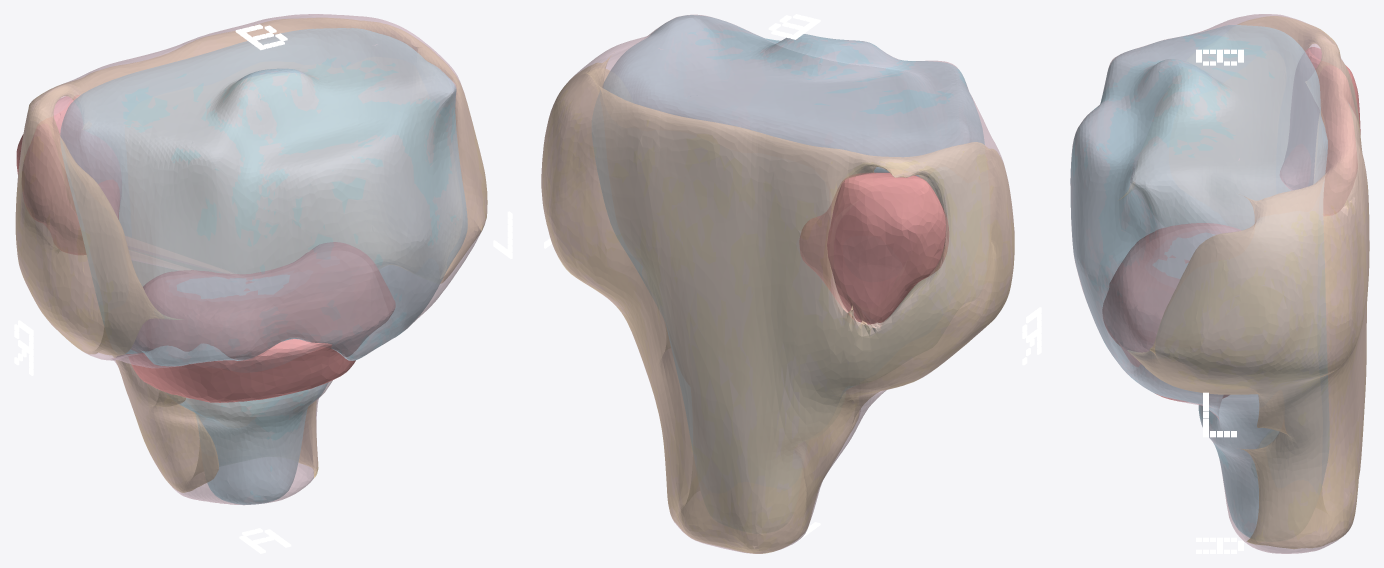
The picture shows the model from 3 angles, left to right: view 1: azimuth 30°, elevation 25°; view 2: azimuth 150°, elevation 25°; view 3: azimuth 270°, elevation 25°; orthographic projection. The views are drawn at different scales.
Visible parts, largest first — view 1: prostate_gland, transition_zone, peripheral_zone, lesion_01, pv_ar_marker_B; view 2: prostate_gland, peripheral_zone, transition_zone, lesion_01, pv_ar_marker_B; view 3: prostate_gland, transition_zone, peripheral_zone, lesion_01, pv_ar_marker_B, pv_ar_marker_A, pv_ar_marker_L.
Part boxes in pixels (x1=…): prostate_gland: x1=15, y1=14, x2=487, y2=505; transition_zone: x1=60, y1=28, x2=467, y2=504; peripheral_zone: x1=15, y1=18, x2=487, y2=492; lesion_01: x1=16, y1=95, x2=395, y2=402; pv_ar_marker_B: x1=235, y1=24, x2=287, y2=50; prostate_gland: x1=541, y1=14, x2=1014, y2=553; peripheral_zone: x1=541, y1=56, x2=1014, y2=553; transition_zone: x1=592, y1=15, x2=984, y2=452; lesion_01: x1=799, y1=172, x2=948, y2=324; pv_ar_marker_B: x1=768, y1=14, x2=820, y2=39; prostate_gland: x1=1070, y1=14, x2=1369, y2=553; transition_zone: x1=1070, y1=25, x2=1329, y2=537; peripheral_zone: x1=1121, y1=16, x2=1369, y2=548; lesion_01: x1=1102, y1=47, x2=1360, y2=401; pv_ar_marker_B: x1=1196, y1=49, x2=1243, y2=65; pv_ar_marker_A: x1=1196, y1=537, x2=1243, y2=553; pv_ar_marker_L: x1=1203, y1=392, x2=1236, y2=437.
Bounding box in the file's own units: 0.0587 × 0.059 × 0.0327.
